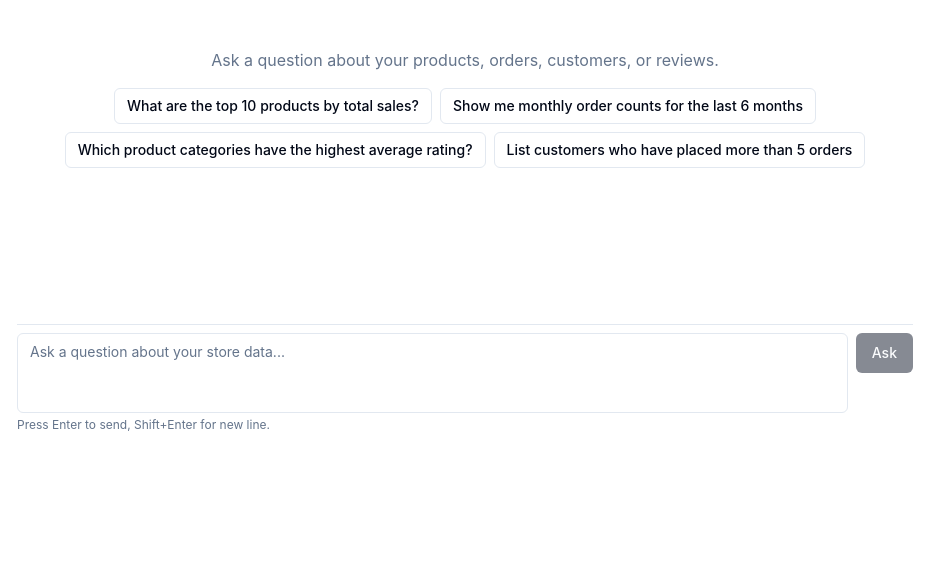
AiAnalyticsChat › renders empty result state when rowCount is 0
This screenshot has width=931, height=580.
Type "Empty query" into the text box with placeholder "Ask a question about your store data..." at [432, 373], box [17,333,848,413]
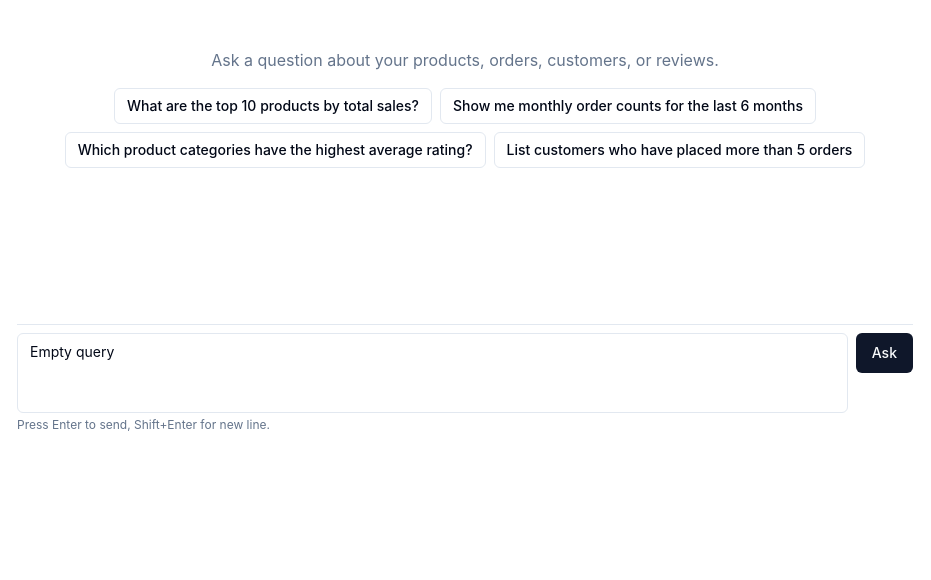
Click the button "Ask" at [884, 353], box [856,333,913,373]
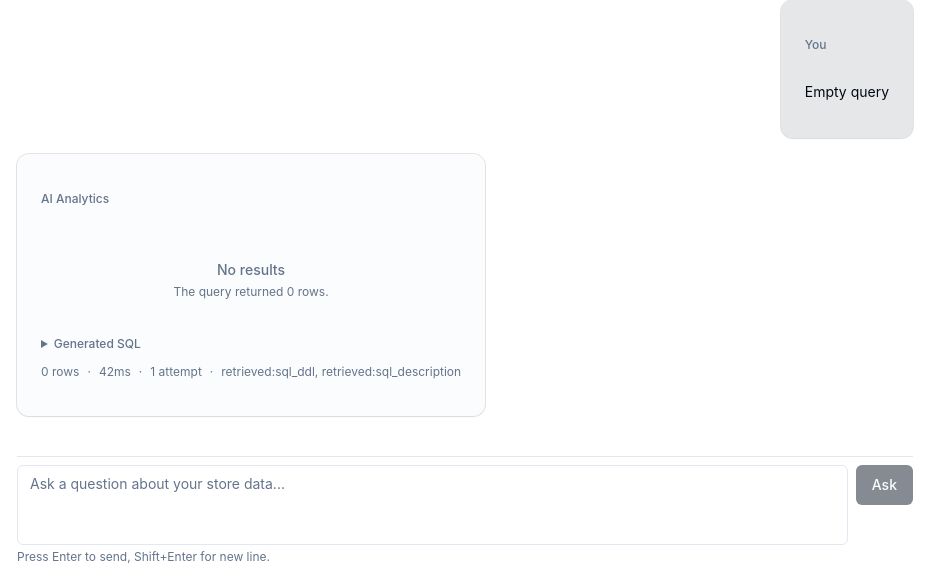
Result: the text "No results" is shown at [217,261,285,278]
Result: the text "The query returned 0 rows." is shown at [174,284,329,299]
